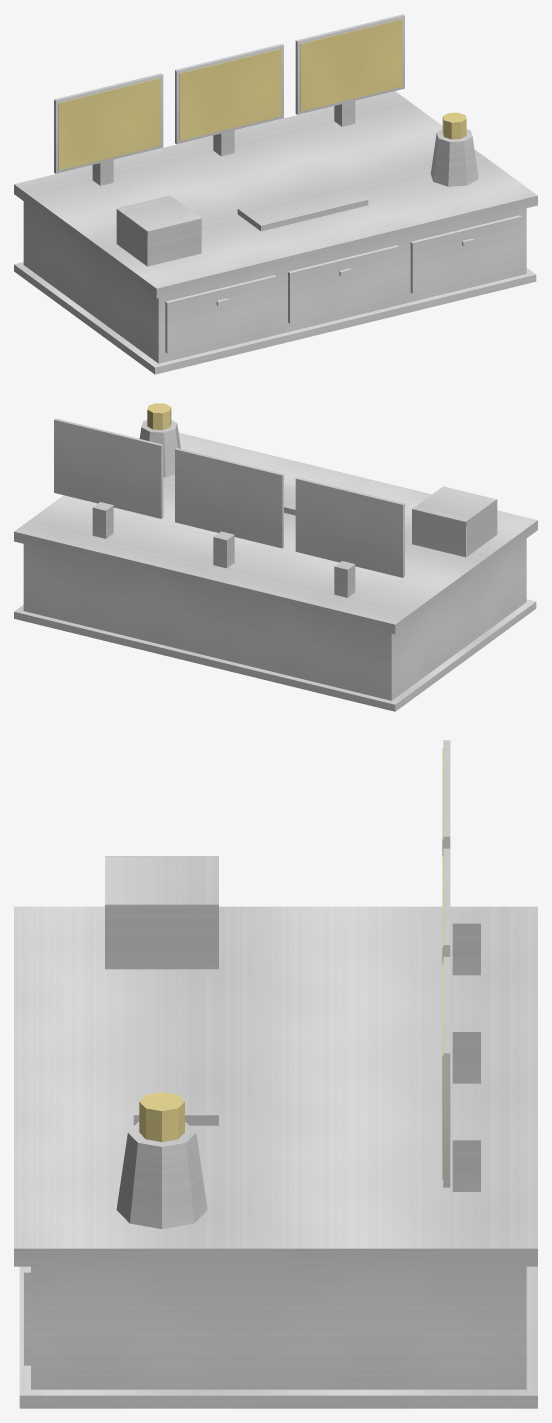
The model's file is bench_hitech_research.obj.
The picture shows the model from 3 angles, top to bottom: view 1: azimuth 30°, elevation 25°; view 2: azimuth 150°, elevation 25°; view 3: azimuth 270°, elevation 25°; orthographic projection. The views are drawn at different scales.
Visible parts, largest first — view 1: bench_hitech_research; view 2: bench_hitech_research; view 3: bench_hitech_research.
Boxes of the visible parts, <box> form: bench_hitech_research: <box>14,14,537,374</box>; bench_hitech_research: <box>14,403,537,711</box>; bench_hitech_research: <box>14,740,537,1408</box>.
Bounding box in the file's own units: 2.84 × 1.32 × 1.84.
